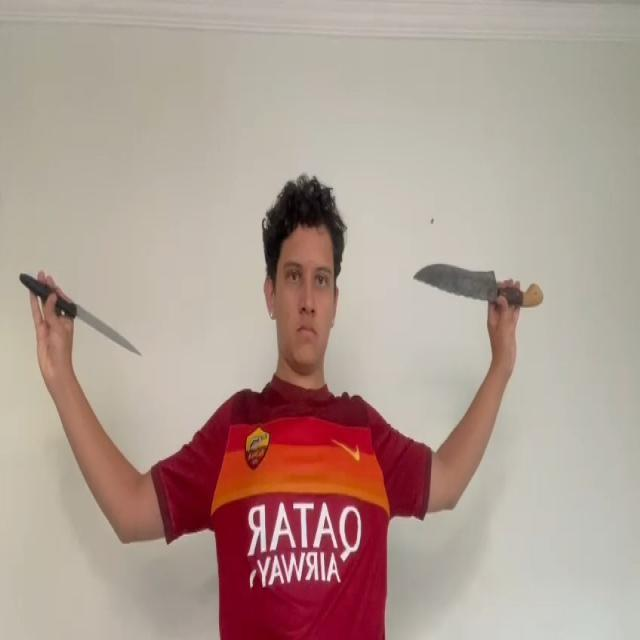knife: (76, 302, 142, 356), (413, 265, 499, 301)
